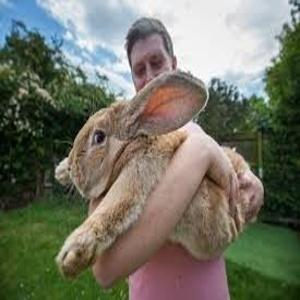rabbit: (63, 73, 264, 290)
